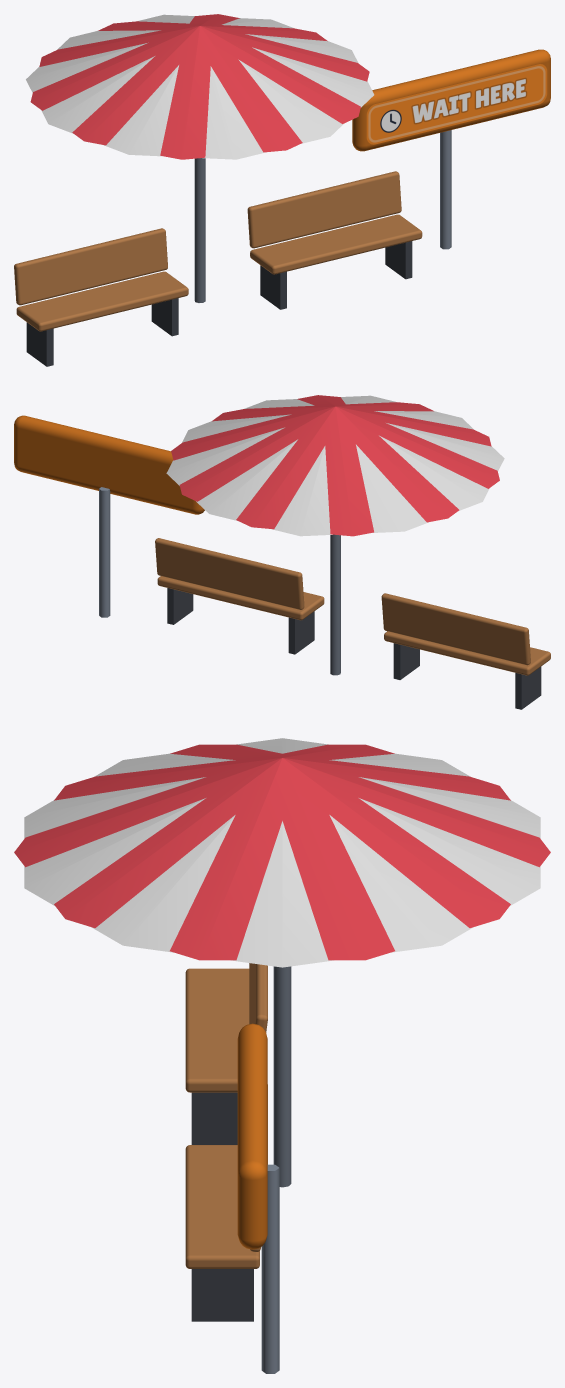
The model's file is waiting_area.glb.
3 renders of one model, top to bottom at view 1: azimuth 30°, elevation 25°; view 2: azimuth 150°, elevation 25°; view 3: azimuth 270°, elevation 25°, orthographic. The views are drawn at different scales.
Parts seen in each view (by area): view 1: WaitingArea; view 2: WaitingArea; view 3: WaitingArea.
Boxes of the visible parts, x1,y1,x2,y2 form: WaitingArea: (14, 14, 550, 366); WaitingArea: (14, 395, 550, 709); WaitingArea: (14, 738, 550, 1373).
Bounding box in the file's own units: 6.37 × 3.18 × 3.6.
Materials: 4 (1 with a texture image).
